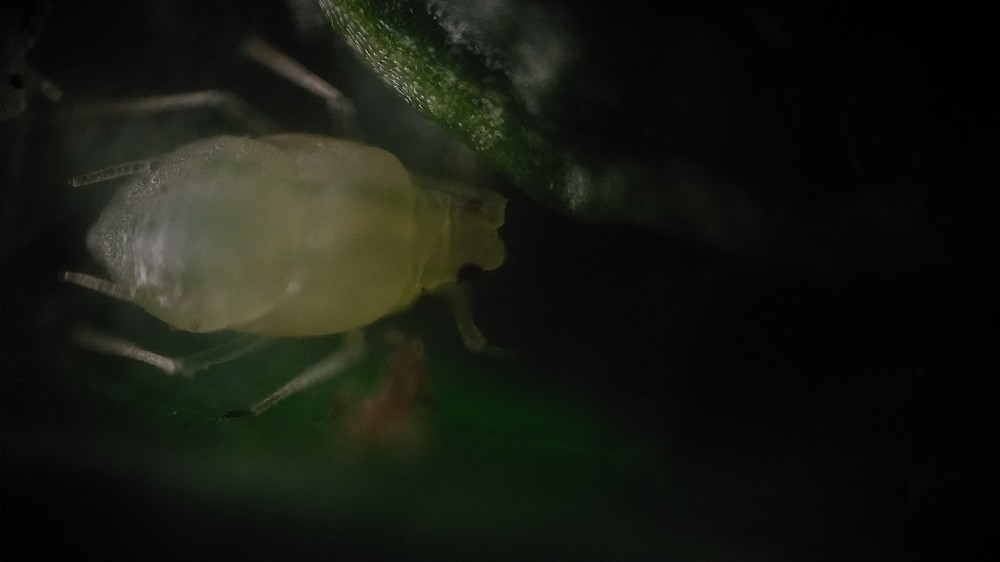Pulgon: (34, 41, 573, 448)
